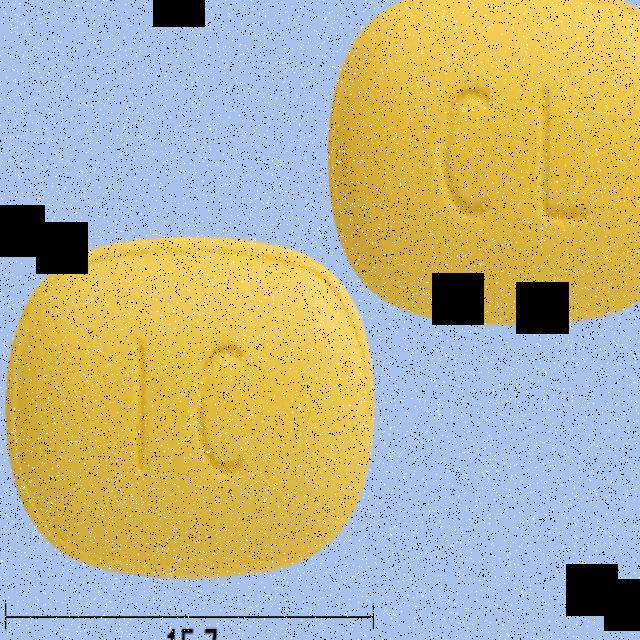Clocin Film Coated Tab: (2, 235, 374, 579), (329, 0, 640, 324)
